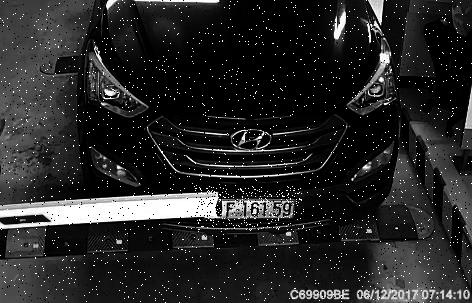License-plate: (196, 187, 305, 231)
